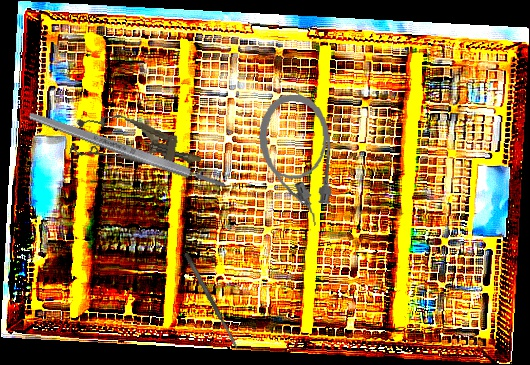Cannula: (255, 91, 339, 231)
Scalpel Handle: (26, 109, 228, 192)
Spatula Surgical: (183, 251, 240, 351)
Speculum: (69, 106, 207, 184)
